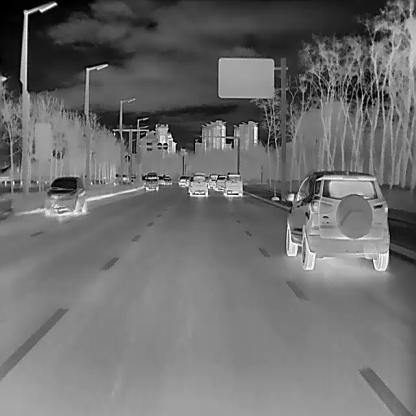car: (286, 169, 390, 270), (44, 176, 86, 214), (223, 171, 242, 196), (188, 174, 208, 196), (144, 171, 159, 189), (206, 173, 218, 187), (214, 175, 225, 190), (178, 175, 187, 186), (162, 174, 171, 184)
